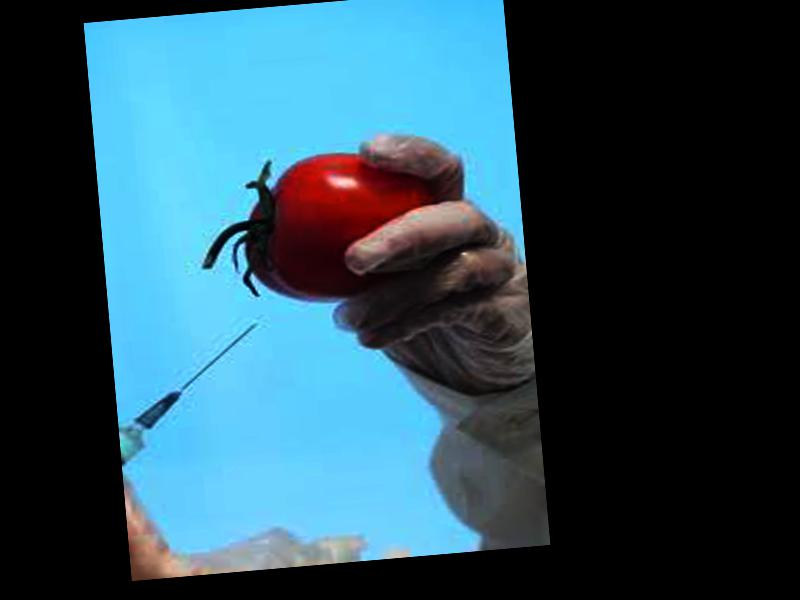Tomato: (238, 144, 443, 306)
